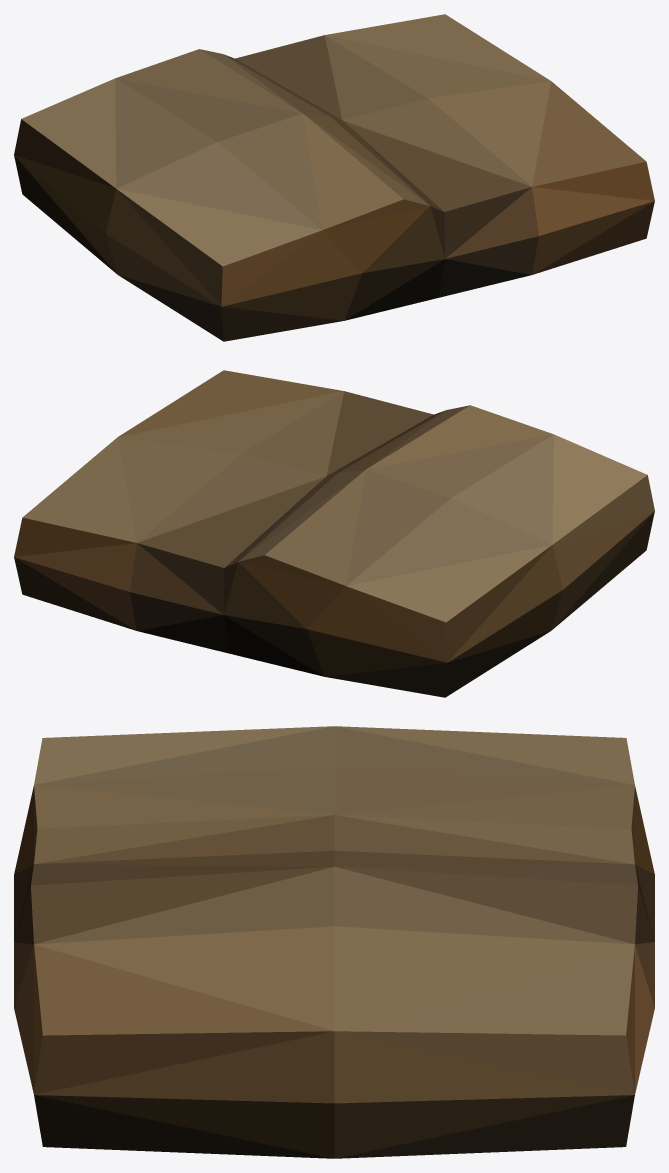
The model's file is prop_literature_book_open_2.fbx.
3 views of the same model, one above another, from view 1: azimuth 30°, elevation 25°; view 2: azimuth 150°, elevation 25°; view 3: azimuth 270°, elevation 25° (orthographic). The views are drawn at different scales.
Parts seen in each view (by area): view 1: prop_literature_book_open_2; view 2: prop_literature_book_open_2; view 3: prop_literature_book_open_2.
Boxes of the visible parts, x1=… form: prop_literature_book_open_2: x1=14, y1=14, x2=654, y2=341; prop_literature_book_open_2: x1=14, y1=370, x2=654, y2=697; prop_literature_book_open_2: x1=14, y1=726, x2=654, y2=1158.
Size of the model in its own units: 0.7106 by 0.1912 by 0.5955.
